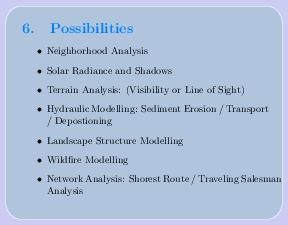paragraph: (44, 44, 283, 201)
title: (46, 15, 142, 36)
